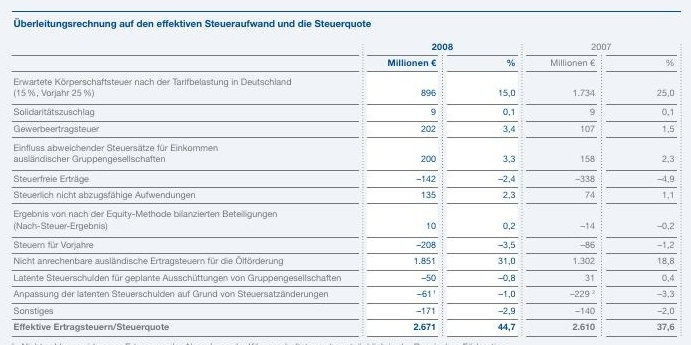table: (0, 0, 691, 345)
